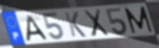5: (41, 11, 66, 41), (106, 7, 129, 36)
A: (25, 15, 49, 43)
K: (63, 11, 88, 38)
M: (123, 6, 154, 35)
X: (82, 8, 111, 39)
